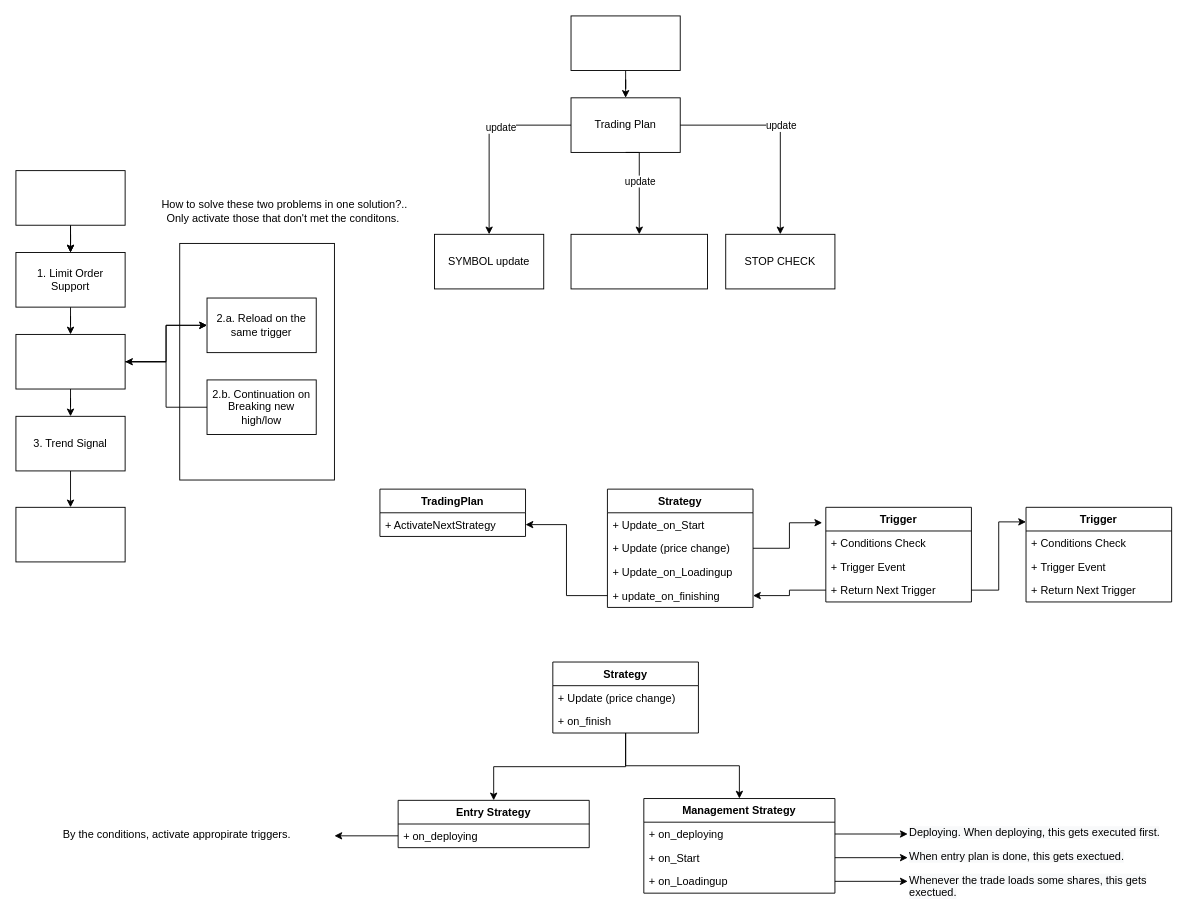
The diagram is 1197 pixels wide and 916 high, and some of its shapes have lost their labels. Here are the shapes that lost their labels. From the top down, the centre of each, then its label:
point (625, 43): PRICE CHANGE
point (70, 197): TODOs
point (639, 261): Current_Running_Strategy
point (70, 361): 2. Continuation Trade
point (70, 534): 4. Swing Point Signal
